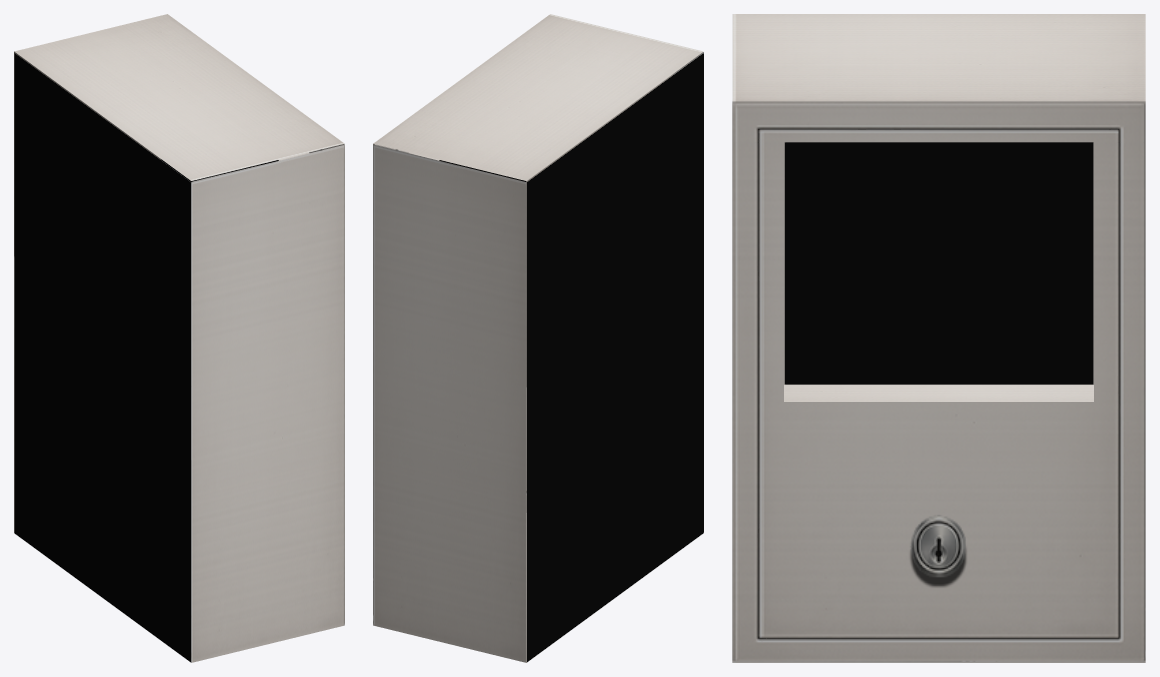
File: 開閉コントロールパネル.fbx
The picture shows the model from 3 angles, left to right: view 1: azimuth 30°, elevation 25°; view 2: azimuth 150°, elevation 25°; view 3: azimuth 270°, elevation 25°; orthographic projection. The views are drawn at different scales.
Visible parts, largest first — view 1: Cube; view 2: Cube; view 3: Cube.
Part boxes in pixels (x1,y1,x2,y2): Cube: (14,14,344,662); Cube: (373,14,703,662); Cube: (732,14,1145,662).
Bounding box in the file's own units: 0.1 × 0.3 × 0.2.
Materials: 2 (2 with a texture image).
